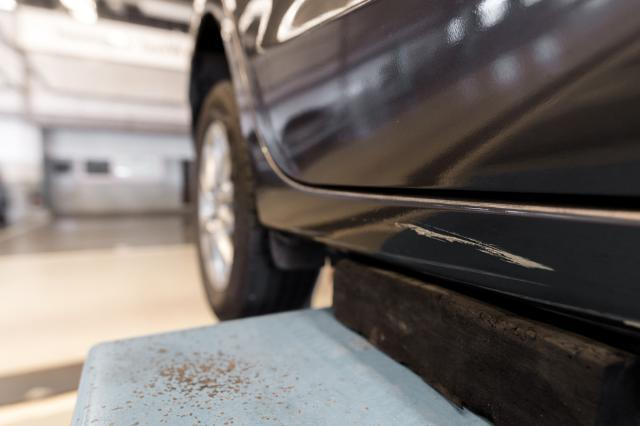Door: (344, 158, 595, 310)
